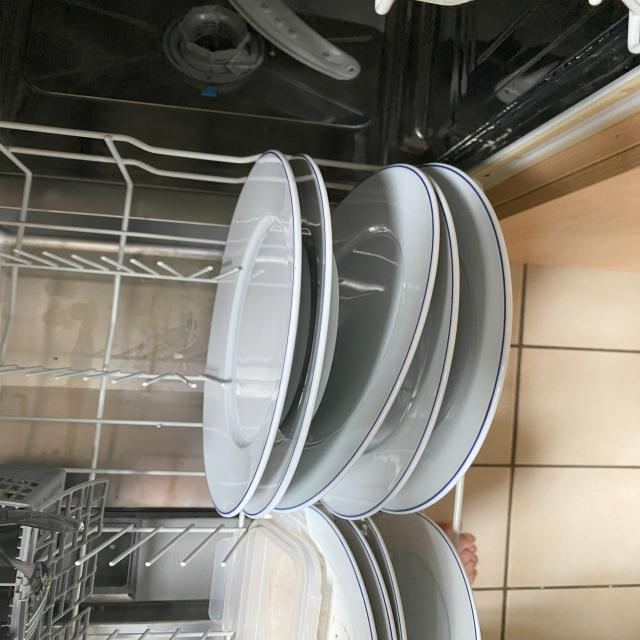empty_slot: (4, 147, 201, 473), (97, 515, 236, 640)
